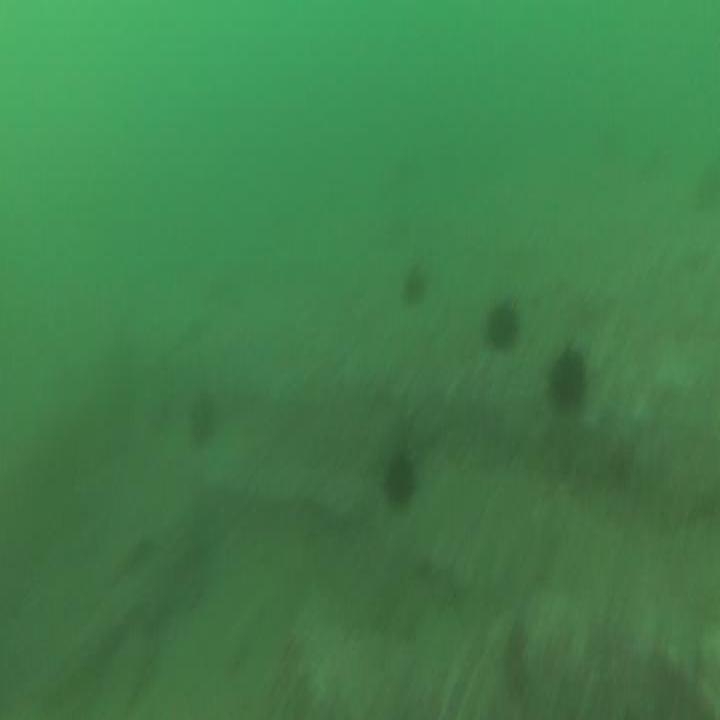echinus: (545, 342, 590, 422), (380, 442, 417, 514), (483, 294, 522, 358), (183, 384, 215, 448), (396, 258, 428, 309)
